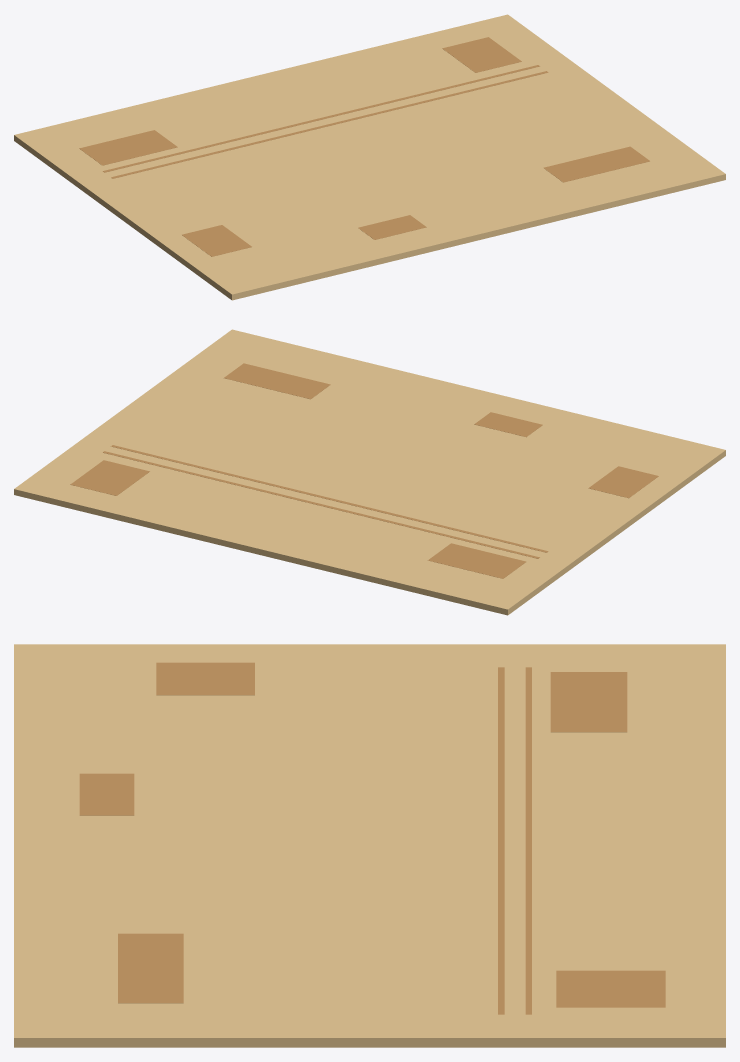
File: LobbyGround.fbx
3 renders of one model, top to bottom at view 1: azimuth 30°, elevation 25°; view 2: azimuth 150°, elevation 25°; view 3: azimuth 270°, elevation 25°, orthographic. The views are drawn at different scales.
Visible parts, largest first — view 1: LobbyGround; view 2: LobbyGround; view 3: LobbyGround.
Part boxes in pixels (box(x1,y1,x2,y2)): LobbyGround: box(14, 14, 725, 300); LobbyGround: box(14, 329, 725, 615); LobbyGround: box(14, 644, 725, 1047).
Bounding box in the file's own units: 170 × 2 × 130.
